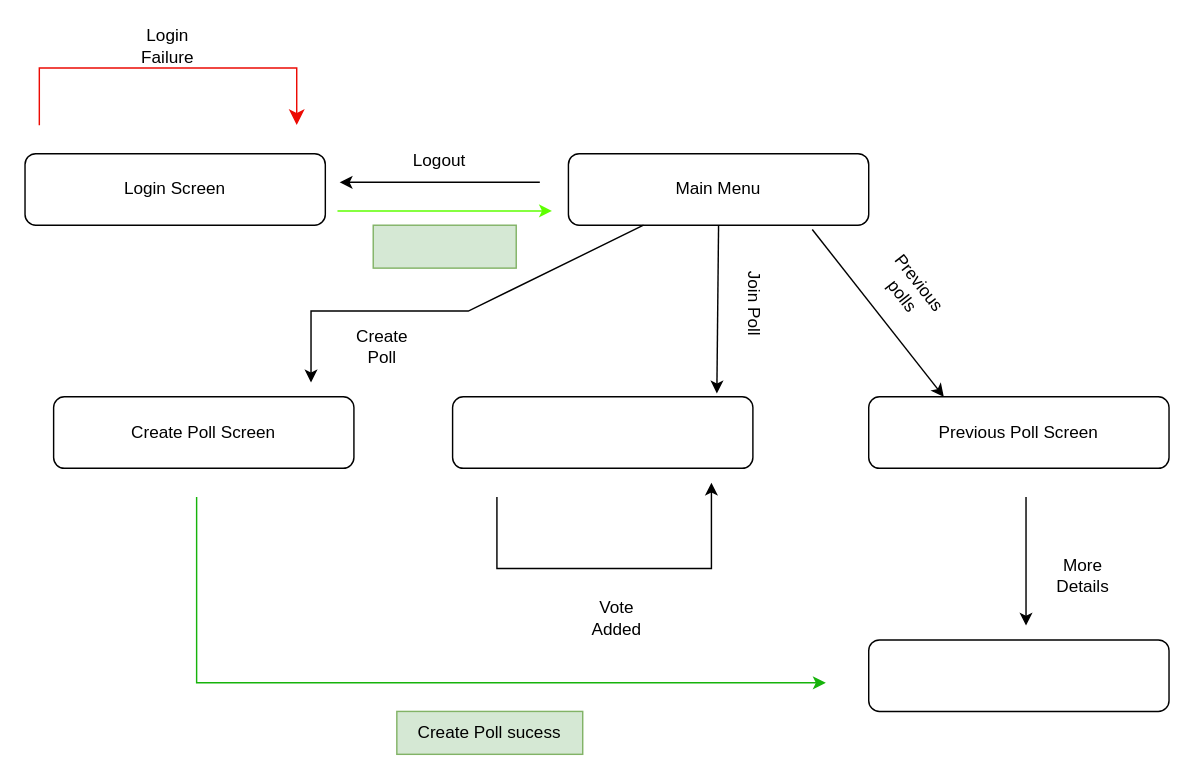
Image size: 1194x779. Some labels were removed from this diagram. The centre of each missing label's shape, as x and y in pixels:
"Login Sucess" belongs at [444,246].
"Poll Screen" belongs at [602,431].
"Poll Statistic Screen" belongs at [1018,674].
